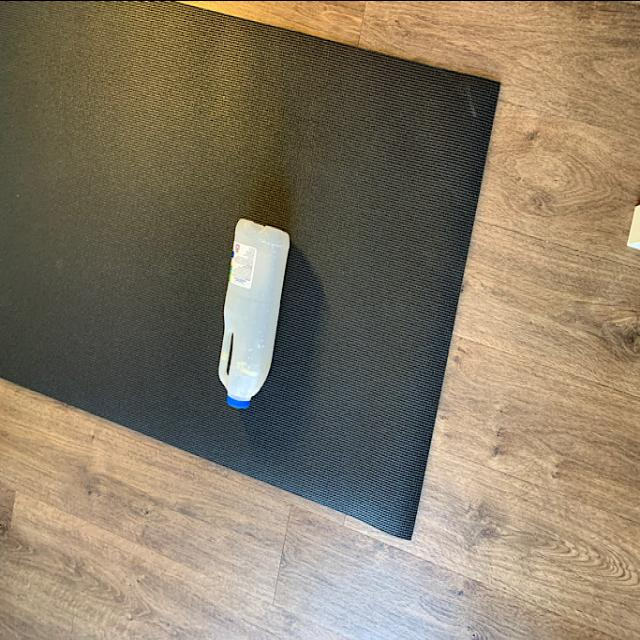HDPEM: (216, 210, 294, 412)
